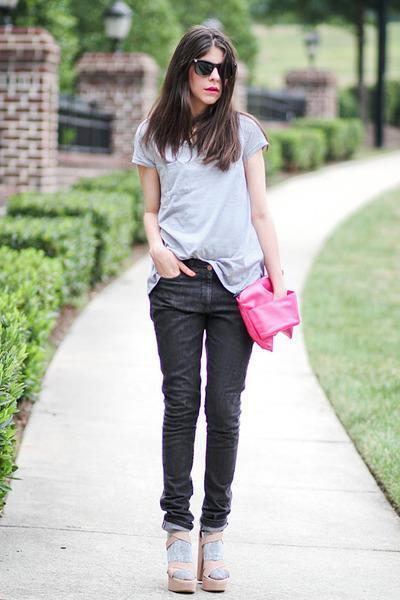short sleeve shirt: (136, 112, 273, 295)
trousers: (149, 253, 264, 531)
